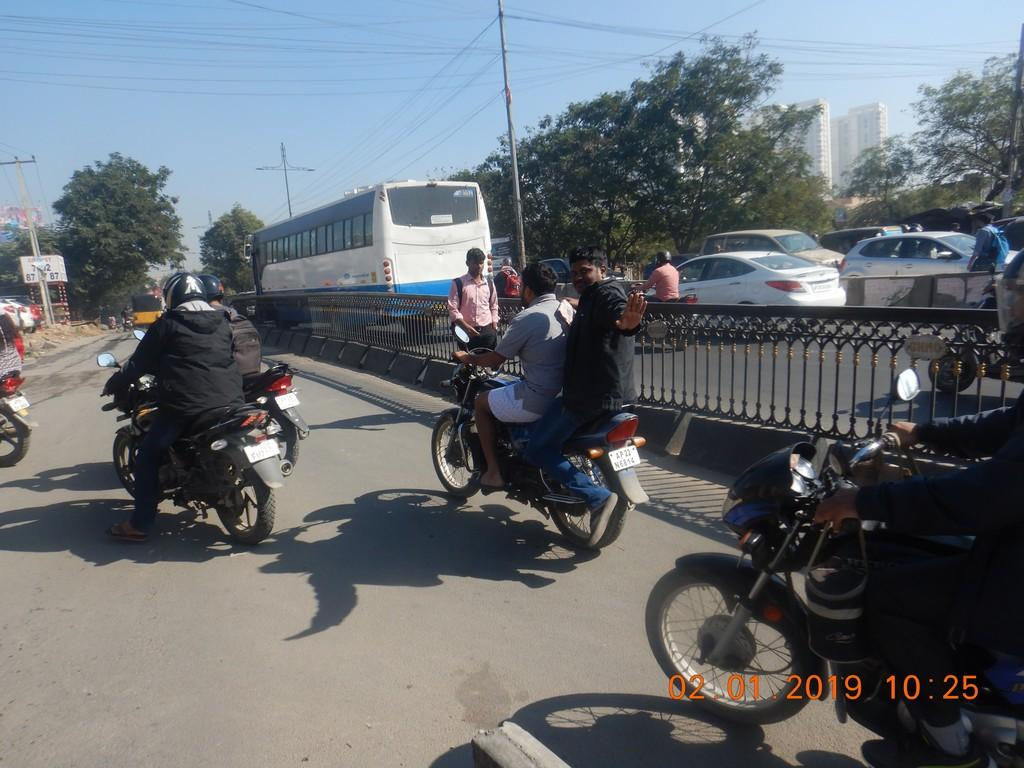plate: (609, 446, 644, 472)
